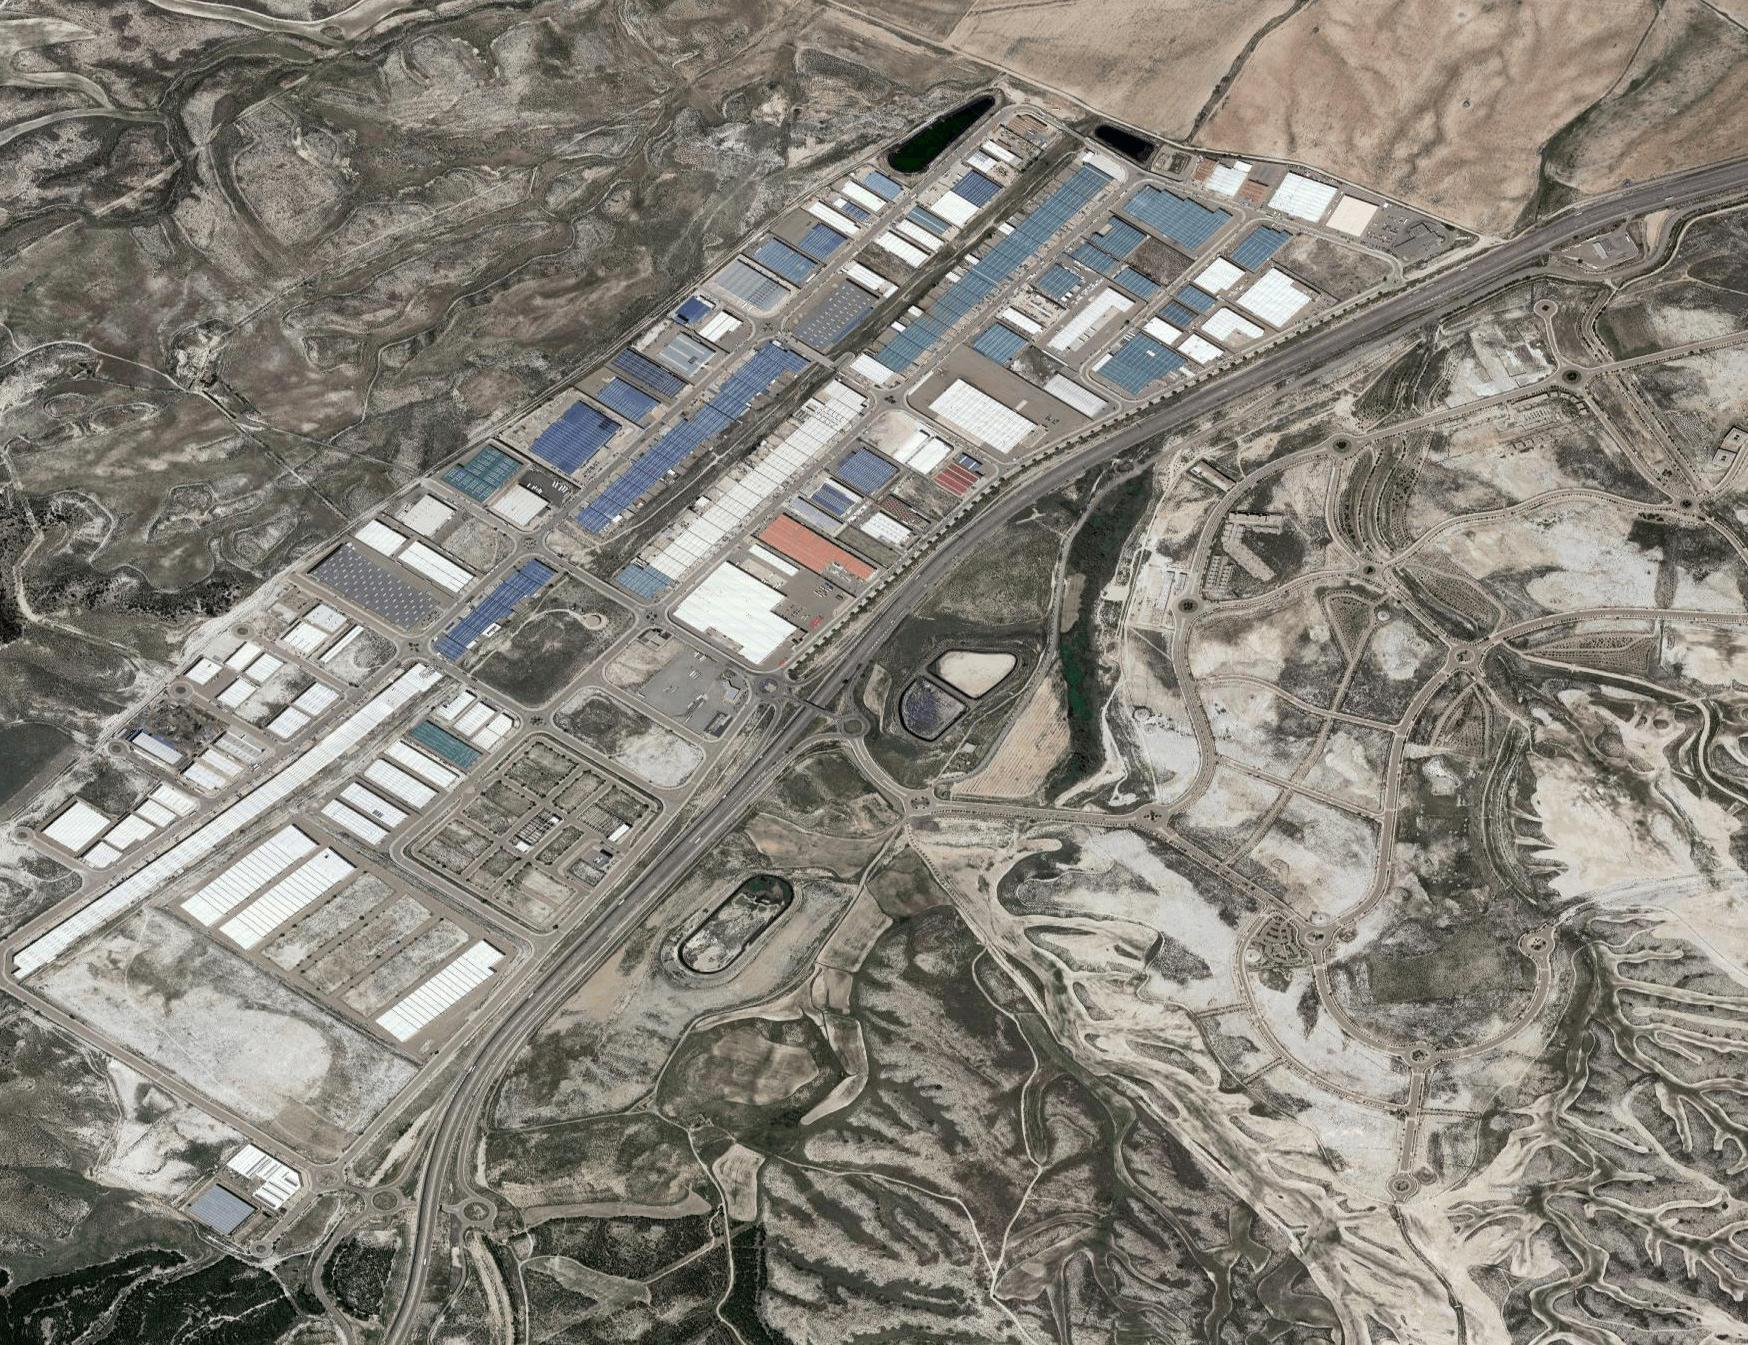industrial: (49, 122, 1176, 1044)
motorway: (490, 740, 789, 1034), (772, 454, 1070, 746), (1064, 270, 1424, 470), (1422, 103, 1748, 319), (355, 1024, 526, 1345)
